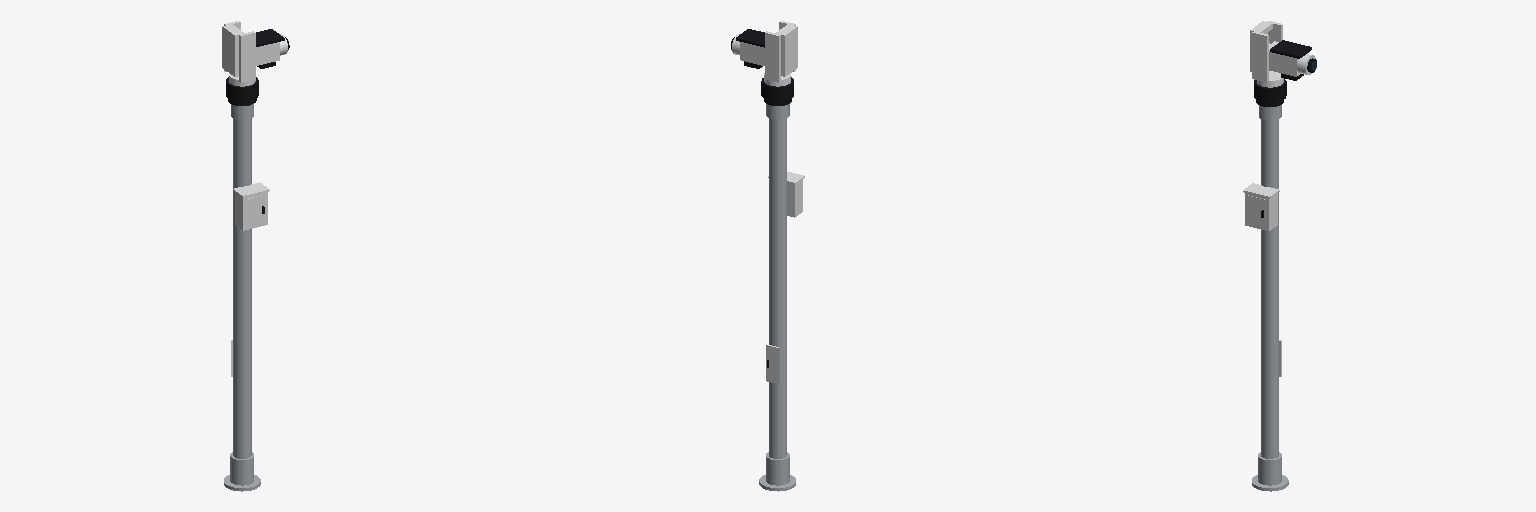
URDF robot description (cctv_mast):
<robot name="cctv_mast">
  <link name="mast">
    <inertial>
      <origin xyz="0 0 1.51" rpy="0 0 0" />
      <mass value="58" />
      <inertia ixx="44.1635" ixy="0" ixz="0" iyy="44.1635" iyz="0" izz="0.163125" />
    </inertial>
    <visual>
      <origin xyz="0 0 0.0125" rpy="0 0 0" />
      <geometry>
        <cylinder radius="0.13" length="0.025" />
      </geometry>
      <material name="galvanized_steel">
        <color rgba="0.7 0.72 0.74 1" />
      </material>
    </visual>
    <visual>
      <origin xyz="0 0 0.11" rpy="0 0 0" />
      <geometry>
        <cylinder radius="0.085" length="0.22" />
      </geometry>
      <material name="galvanized_steel">
        <color rgba="0.7 0.72 0.74 1" />
      </material>
    </visual>
    <visual>
      <origin xyz="0 0 1.435" rpy="0 0 0" />
      <geometry>
        <cylinder radius="0.065" length="2.82" />
      </geometry>
      <material name="galvanized_steel">
        <color rgba="0.7 0.72 0.74 1" />
      </material>
    </visual>
    <visual>
      <origin xyz="0 0.071 0.95" rpy="0 0 0" />
      <geometry>
        <box size="0.1 0.012 0.28" />
      </geometry>
      <material name="painted_white">
        <color rgba="0.9 0.91 0.92 1" />
      </material>
    </visual>
    <visual>
      <origin xyz="0.03 0.083 0.95" rpy="0 0 0" />
      <geometry>
        <box size="0.012 0.02 0.06" />
      </geometry>
      <material name="black_polymer">
        <color rgba="0.12 0.13 0.14 1" />
      </material>
    </visual>
    <visual>
      <origin xyz="0 -0.125 2.18" rpy="0 0 0" />
      <geometry>
        <box size="0.2 0.12 0.26" />
      </geometry>
      <material name="painted_white">
        <color rgba="0.9 0.91 0.92 1" />
      </material>
    </visual>
    <visual>
      <origin xyz="0 -0.187 2.18" rpy="0 0 0" />
      <geometry>
        <box size="0.16 0.004 0.22" />
      </geometry>
      <material name="painted_white">
        <color rgba="0.9 0.91 0.92 1" />
      </material>
    </visual>
    <visual>
      <origin xyz="0.055 -0.197 2.18" rpy="0 0 0" />
      <geometry>
        <box size="0.014 0.02 0.05" />
      </geometry>
      <material name="black_polymer">
        <color rgba="0.12 0.13 0.14 1" />
      </material>
    </visual>
    <visual>
      <origin xyz="0 -0.125 2.317" rpy="0 0 0" />
      <geometry>
        <box size="0.22 0.14 0.014" />
      </geometry>
      <material name="painted_white">
        <color rgba="0.9 0.91 0.92 1" />
      </material>
    </visual>
    <visual>
      <origin xyz="0 0 2.9225" rpy="0 0 0" />
      <geometry>
        <cylinder radius="0.082" length="0.155" />
      </geometry>
      <material name="galvanized_steel">
        <color rgba="0.7 0.72 0.74 1" />
      </material>
    </visual>
    <visual>
      <origin xyz="0 0 2.98" rpy="0 0 0" />
      <geometry>
        <cylinder radius="0.1" length="0.04" />
      </geometry>
      <material name="black_polymer">
        <color rgba="0.12 0.13 0.14 1" />
      </material>
    </visual>
    <visual>
      <geometry>
        <mesh filename="meshes/mast_conduit.glb" />
      </geometry>
      <material name="black_polymer">
        <color rgba="0.12 0.13 0.14 1" />
      </material>
    </visual>
    <collision name="mast__visual_1">
      <origin xyz="0 0 0.0125" rpy="0 0 0" />
      <geometry>
        <cylinder radius="0.13" length="0.025" />
      </geometry>
    </collision>
    <collision name="mast__visual_2">
      <origin xyz="0 0 0.11" rpy="0 0 0" />
      <geometry>
        <cylinder radius="0.085" length="0.22" />
      </geometry>
    </collision>
    <collision name="mast__visual_3">
      <origin xyz="0 0 1.435" rpy="0 0 0" />
      <geometry>
        <cylinder radius="0.065" length="2.82" />
      </geometry>
    </collision>
    <collision name="mast__visual_4">
      <origin xyz="0 0.071 0.95" rpy="0 0 0" />
      <geometry>
        <box size="0.1 0.012 0.28" />
      </geometry>
    </collision>
    <collision name="mast__visual_5">
      <origin xyz="0.03 0.083 0.95" rpy="0 0 0" />
      <geometry>
        <box size="0.012 0.02 0.06" />
      </geometry>
    </collision>
    <collision name="mast__visual_6">
      <origin xyz="0 -0.125 2.18" rpy="0 0 0" />
      <geometry>
        <box size="0.2 0.12 0.26" />
      </geometry>
    </collision>
    <collision name="mast__visual_7">
      <origin xyz="0 -0.187 2.18" rpy="0 0 0" />
      <geometry>
        <box size="0.16 0.004 0.22" />
      </geometry>
    </collision>
    <collision name="mast__visual_8">
      <origin xyz="0.055 -0.197 2.18" rpy="0 0 0" />
      <geometry>
        <box size="0.014 0.02 0.05" />
      </geometry>
    </collision>
    <collision name="mast__visual_9">
      <origin xyz="0 -0.125 2.317" rpy="0 0 0" />
      <geometry>
        <box size="0.22 0.14 0.014" />
      </geometry>
    </collision>
    <collision name="mast__visual_10">
      <origin xyz="0 0 2.9225" rpy="0 0 0" />
      <geometry>
        <cylinder radius="0.082" length="0.155" />
      </geometry>
    </collision>
    <collision name="mast__visual_11">
      <origin xyz="0 0 2.98" rpy="0 0 0" />
      <geometry>
        <cylinder radius="0.1" length="0.04" />
      </geometry>
    </collision>
    <collision name="mast__visual_12__hull_001">
      <geometry>
        <mesh filename="meshes/collision/cache/bf1d636ebf8b7dc476b19c62__hull_001.obj" />
      </geometry>
    </collision>
    <collision name="mast__visual_12__hull_002">
      <geometry>
        <mesh filename="meshes/collision/cache/bf1d636ebf8b7dc476b19c62__hull_002.obj" />
      </geometry>
    </collision>
  </link>
  <link name="pan_head">
    <inertial>
      <origin xyz="-0.01 0 0.27" rpy="0 0 0" />
      <mass value="9.5" />
      <inertia ixx="0.280329" ixy="0" ixz="0" iyy="0.280329" iyz="0" izz="0.0989583" />
    </inertial>
    <visual>
      <origin xyz="0 0 0.055" rpy="0 0 0" />
      <geometry>
        <cylinder radius="0.115" length="0.11" />
      </geometry>
      <material name="black_polymer">
        <color rgba="0.12 0.13 0.14 1" />
      </material>
    </visual>
    <visual>
      <origin xyz="0 0 0.135" rpy="0 0 0" />
      <geometry>
        <cylinder radius="0.095" length="0.05" />
      </geometry>
      <material name="painted_white">
        <color rgba="0.9 0.91 0.92 1" />
      </material>
    </visual>
    <visual>
      <origin xyz="-0.02 0.102 0.34" rpy="0 0 0" />
      <geometry>
        <box size="0.12 0.028 0.36" />
      </geometry>
      <material name="painted_white">
        <color rgba="0.9 0.91 0.92 1" />
      </material>
    </visual>
    <visual>
      <origin xyz="-0.02 -0.102 0.34" rpy="0 0 0" />
      <geometry>
        <box size="0.12 0.028 0.36" />
      </geometry>
      <material name="painted_white">
        <color rgba="0.9 0.91 0.92 1" />
      </material>
    </visual>
    <visual>
      <origin xyz="-0.09 0 0.34" rpy="0 0 0" />
      <geometry>
        <box size="0.04 0.176 0.28" />
      </geometry>
      <material name="painted_white">
        <color rgba="0.9 0.91 0.92 1" />
      </material>
    </visual>
    <visual>
      <origin xyz="-0.07 0 0.5" rpy="0 0 0" />
      <geometry>
        <box size="0.08 0.176 0.04" />
      </geometry>
      <material name="painted_white">
        <color rgba="0.9 0.91 0.92 1" />
      </material>
    </visual>
    <visual>
      <origin xyz="0 0.049 0.32" rpy="1.5708 0 0" />
      <geometry>
        <cylinder radius="0.03" length="0.082" />
      </geometry>
      <material name="dark_rubber">
        <color rgba="0.08 0.08 0.08 1" />
      </material>
    </visual>
    <visual>
      <origin xyz="0 -0.049 0.32" rpy="1.5708 0 0" />
      <geometry>
        <cylinder radius="0.03" length="0.082" />
      </geometry>
      <material name="dark_rubber">
        <color rgba="0.08 0.08 0.08 1" />
      </material>
    </visual>
    <collision name="pan_head__visual_1">
      <origin xyz="0 0 0.055" rpy="0 0 0" />
      <geometry>
        <cylinder radius="0.115" length="0.11" />
      </geometry>
    </collision>
    <collision name="pan_head__visual_2">
      <origin xyz="0 0 0.135" rpy="0 0 0" />
      <geometry>
        <cylinder radius="0.095" length="0.05" />
      </geometry>
    </collision>
    <collision name="pan_head__visual_3">
      <origin xyz="-0.02 0.102 0.34" rpy="0 0 0" />
      <geometry>
        <box size="0.12 0.028 0.36" />
      </geometry>
    </collision>
    <collision name="pan_head__visual_4">
      <origin xyz="-0.02 -0.102 0.34" rpy="0 0 0" />
      <geometry>
        <box size="0.12 0.028 0.36" />
      </geometry>
    </collision>
    <collision name="pan_head__visual_5">
      <origin xyz="-0.09 0 0.34" rpy="0 0 0" />
      <geometry>
        <box size="0.04 0.176 0.28" />
      </geometry>
    </collision>
    <collision name="pan_head__visual_6">
      <origin xyz="-0.07 0 0.5" rpy="0 0 0" />
      <geometry>
        <box size="0.08 0.176 0.04" />
      </geometry>
    </collision>
    <collision name="pan_head__visual_7">
      <origin xyz="0 0.049 0.32" rpy="1.5708 0 0" />
      <geometry>
        <cylinder radius="0.03" length="0.082" />
      </geometry>
    </collision>
    <collision name="pan_head__visual_8">
      <origin xyz="0 -0.049 0.32" rpy="1.5708 0 0" />
      <geometry>
        <cylinder radius="0.03" length="0.082" />
      </geometry>
    </collision>
  </link>
  <link name="camera_head">
    <inertial>
      <origin xyz="0.14 0 0" rpy="0 0 0" />
      <mass value="6.8" />
      <inertia ixx="0.0500933" ixy="0" ixz="0" iyy="0.127387" iyz="0" izz="0.122627" />
    </inertial>
    <visual>
      <origin xyz="0.125 0 -0.005" rpy="0 0 0" />
      <geometry>
        <box size="0.27 0.16 0.15" />
      </geometry>
      <material name="painted_white">
        <color rgba="0.9 0.91 0.92 1" />
      </material>
    </visual>
    <visual>
      <origin xyz="-0.035 0 0" rpy="0 0 0" />
      <geometry>
        <box size="0.05 0.12 0.11" />
      </geometry>
      <material name="painted_white">
        <color rgba="0.9 0.91 0.92 1" />
      </material>
    </visual>
    <visual>
      <origin xyz="0.17 0 0.08" rpy="0 0 0" />
      <geometry>
        <box size="0.24 0.18 0.02" />
      </geometry>
      <material name="black_polymer">
        <color rgba="0.12 0.13 0.14 1" />
      </material>
    </visual>
    <visual>
      <origin xyz="0.18 0 -0.102" rpy="0 0 0" />
      <geometry>
        <box size="0.12 0.11 0.05" />
      </geometry>
      <material name="black_polymer">
        <color rgba="0.12 0.13 0.14 1" />
      </material>
    </visual>
    <visual>
      <origin xyz="0.295 0 -0.005" rpy="0 1.5708 0" />
      <geometry>
        <cylinder radius="0.072" length="0.07" />
      </geometry>
      <material name="painted_white">
        <color rgba="0.9 0.91 0.92 1" />
      </material>
    </visual>
    <visual>
      <origin xyz="0.338 0 -0.005" rpy="0 1.5708 0" />
      <geometry>
        <cylinder radius="0.05" length="0.03" />
      </geometry>
      <material name="black_polymer">
        <color rgba="0.12 0.13 0.14 1" />
      </material>
    </visual>
    <visual>
      <origin xyz="0.356 0 -0.005" rpy="0 1.5708 0" />
      <geometry>
        <cylinder radius="0.035" length="0.008" />
      </geometry>
      <material name="smoked_glass">
        <color rgba="0.18 0.24 0.28 0.42" />
      </material>
    </visual>
    <visual>
      <origin xyz="0 0.08 0" rpy="1.5708 0 0" />
      <geometry>
        <cylinder radius="0.023" length="0.036" />
      </geometry>
      <material name="dark_rubber">
        <color rgba="0.08 0.08 0.08 1" />
      </material>
    </visual>
    <visual>
      <origin xyz="0 -0.08 0" rpy="1.5708 0 0" />
      <geometry>
        <cylinder radius="0.023" length="0.036" />
      </geometry>
      <material name="dark_rubber">
        <color rgba="0.08 0.08 0.08 1" />
      </material>
    </visual>
    <collision name="camera_head__visual_1">
      <origin xyz="0.125 0 -0.005" rpy="0 0 0" />
      <geometry>
        <box size="0.27 0.16 0.15" />
      </geometry>
    </collision>
    <collision name="camera_head__visual_2">
      <origin xyz="-0.035 0 0" rpy="0 0 0" />
      <geometry>
        <box size="0.05 0.12 0.11" />
      </geometry>
    </collision>
    <collision name="camera_head__visual_3">
      <origin xyz="0.17 0 0.08" rpy="0 0 0" />
      <geometry>
        <box size="0.24 0.18 0.02" />
      </geometry>
    </collision>
    <collision name="camera_head__visual_4">
      <origin xyz="0.18 0 -0.102" rpy="0 0 0" />
      <geometry>
        <box size="0.12 0.11 0.05" />
      </geometry>
    </collision>
    <collision name="camera_head__visual_5">
      <origin xyz="0.295 0 -0.005" rpy="0 1.5708 0" />
      <geometry>
        <cylinder radius="0.072" length="0.07" />
      </geometry>
    </collision>
    <collision name="camera_head__visual_6">
      <origin xyz="0.338 0 -0.005" rpy="0 1.5708 0" />
      <geometry>
        <cylinder radius="0.05" length="0.03" />
      </geometry>
    </collision>
    <collision name="camera_head__visual_7">
      <origin xyz="0.356 0 -0.005" rpy="0 1.5708 0" />
      <geometry>
        <cylinder radius="0.035" length="0.008" />
      </geometry>
    </collision>
    <collision name="camera_head__visual_8">
      <origin xyz="0 0.08 0" rpy="1.5708 0 0" />
      <geometry>
        <cylinder radius="0.023" length="0.036" />
      </geometry>
    </collision>
    <collision name="camera_head__visual_9">
      <origin xyz="0 -0.08 0" rpy="1.5708 0 0" />
      <geometry>
        <cylinder radius="0.023" length="0.036" />
      </geometry>
    </collision>
  </link>
  <joint name="camera_pan" type="revolute">
    <origin xyz="0 0 3" rpy="0 0 0" />
    <parent link="mast" />
    <child link="pan_head" />
    <axis xyz="0 0 1" />
    <limit effort="60" velocity="1.8" lower="-2.8" upper="2.8" />
  </joint>
  <joint name="camera_tilt" type="revolute">
    <origin xyz="0 0 0.32" rpy="0 0 0" />
    <parent link="pan_head" />
    <child link="camera_head" />
    <axis xyz="0 -1 0" />
    <limit effort="20" velocity="1.5" lower="-0.7" upper="0.45" />
  </joint>
</robot>

--- Render facts (derived) ---
The picture shows the robot from 3 angles, left to right: view 1: azimuth 30°, elevation 25°; view 2: azimuth 150°, elevation 25°; view 3: azimuth 330°, elevation 25°; orthographic projection.
Robot: cctv_mast — 3 links, 2 joints (2 revolute); root link mast; default pose: all joints at 0.
Links seen in each view (by area): view 1: mast, pan_head, camera_head; view 2: mast, pan_head, camera_head; view 3: mast, pan_head, camera_head.
Boxes of the visible links, <box> form: mast: <box>224,99,269,491</box>; pan_head: <box>222,21,258,101</box>; camera_head: <box>256,29,289,68</box>; mast: <box>759,99,804,491</box>; pan_head: <box>761,21,797,101</box>; camera_head: <box>731,29,764,68</box>; mast: <box>1243,100,1288,491</box>; pan_head: <box>1250,21,1286,102</box>; camera_head: <box>1269,40,1316,80</box>.
Bounding box of the posed robot: 0.49 × 0.337 × 3.52 m (x, y, z).
0 mesh visuals loaded from 1 distinct referenced files (none loaded); not drawn: 1 (reference not matched to a file when rendering).
